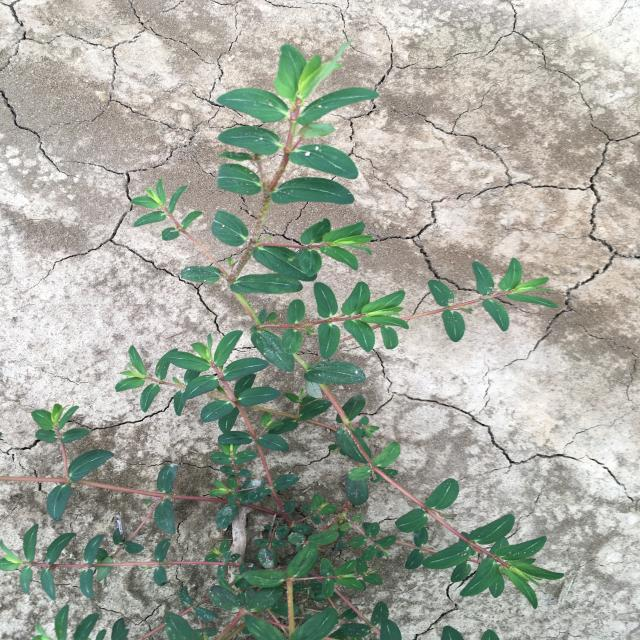SpottedSpurge: (0, 40, 564, 640)
